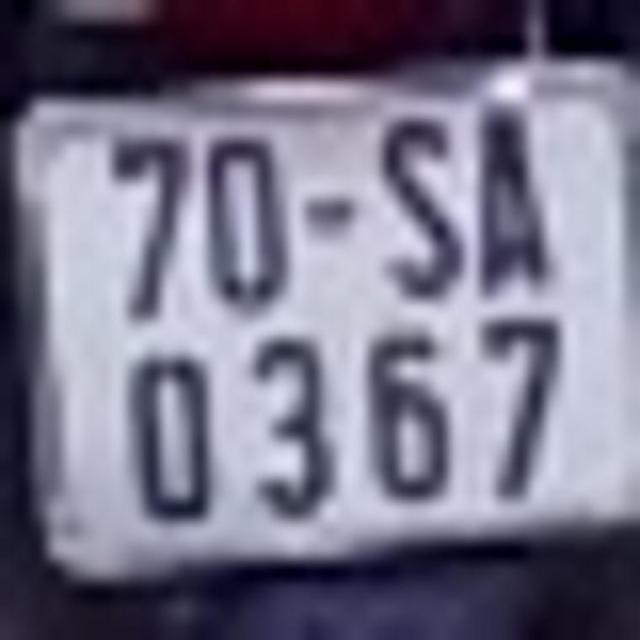0: (129, 345, 219, 521), (205, 132, 286, 308)
3: (245, 324, 334, 524)
6: (362, 323, 457, 503)
7: (101, 129, 190, 322), (476, 305, 560, 506)
A: (472, 90, 548, 295)
S: (362, 100, 463, 294)
